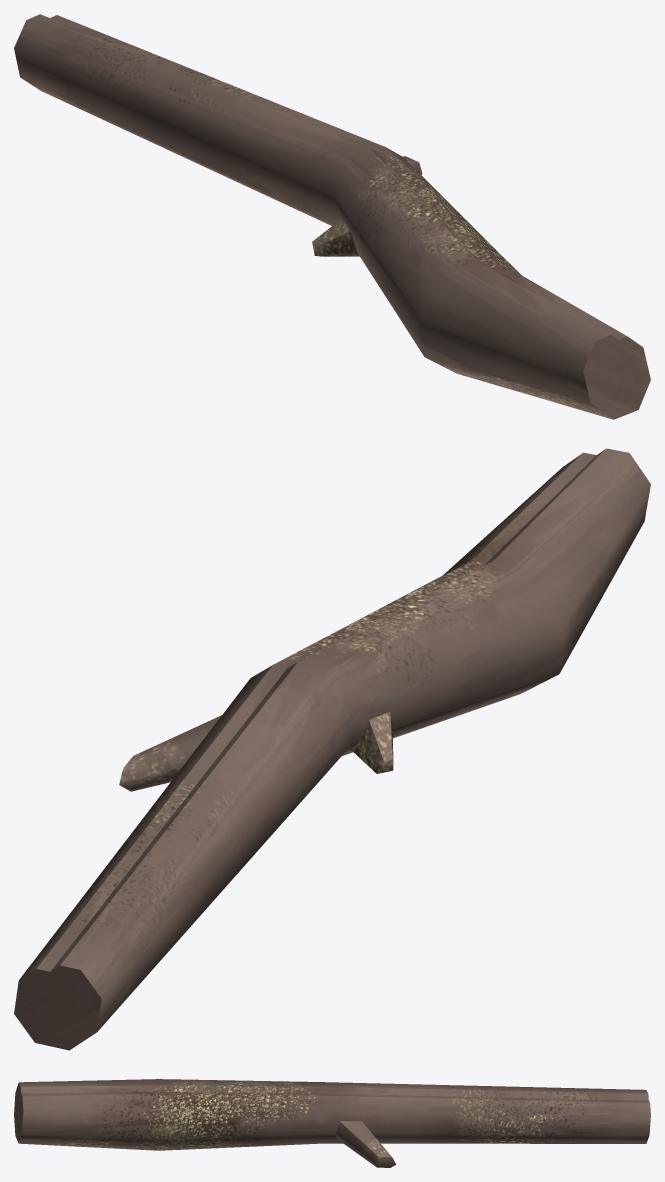
The model's file is Driftwood02.fbx.
The picture shows the model from 3 angles, top to bottom: view 1: azimuth 30°, elevation 25°; view 2: azimuth 150°, elevation 25°; view 3: azimuth 270°, elevation 25°; orthographic projection. The views are drawn at different scales.
Parts seen in each view (by area): view 1: Driftwood02; view 2: Driftwood02; view 3: Driftwood02.
Part boxes in pixels (x1,y1,x2,y2): Driftwood02: (14,14,650,419); Driftwood02: (14,448,650,1050); Driftwood02: (14,1079,650,1167).
Bounding box in the file's own units: 0.6311 × 0.3661 × 2.97.
1 material, 1 textured.
